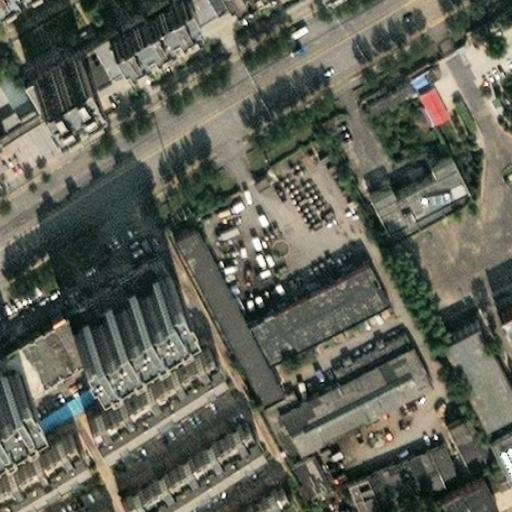building: (164, 213, 271, 391), (269, 333, 422, 440), (110, 406, 259, 512), (75, 326, 217, 430), (242, 246, 382, 348), (61, 256, 176, 341), (334, 429, 451, 506), (361, 139, 458, 215), (0, 413, 78, 484), (93, 0, 186, 51), (200, 466, 293, 512), (20, 44, 80, 99), (435, 403, 481, 462), (424, 467, 477, 511), (280, 441, 321, 481), (426, 102, 459, 144), (407, 71, 437, 111), (470, 455, 495, 482)
